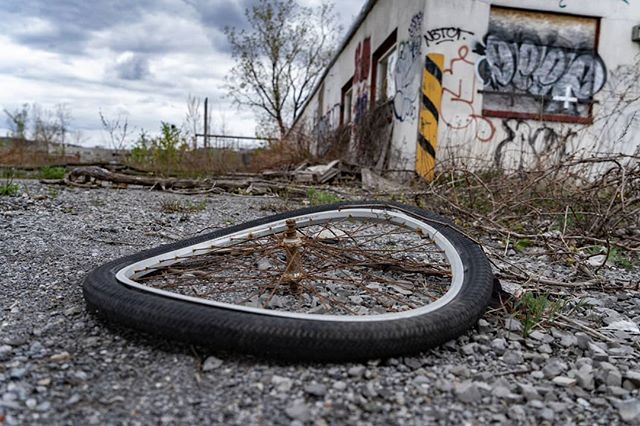building: (306, 1, 640, 184)
graffiti: (442, 25, 611, 162)
sky: (1, 1, 235, 135)
tree: (219, 1, 354, 142)
wheel: (73, 181, 512, 365)
